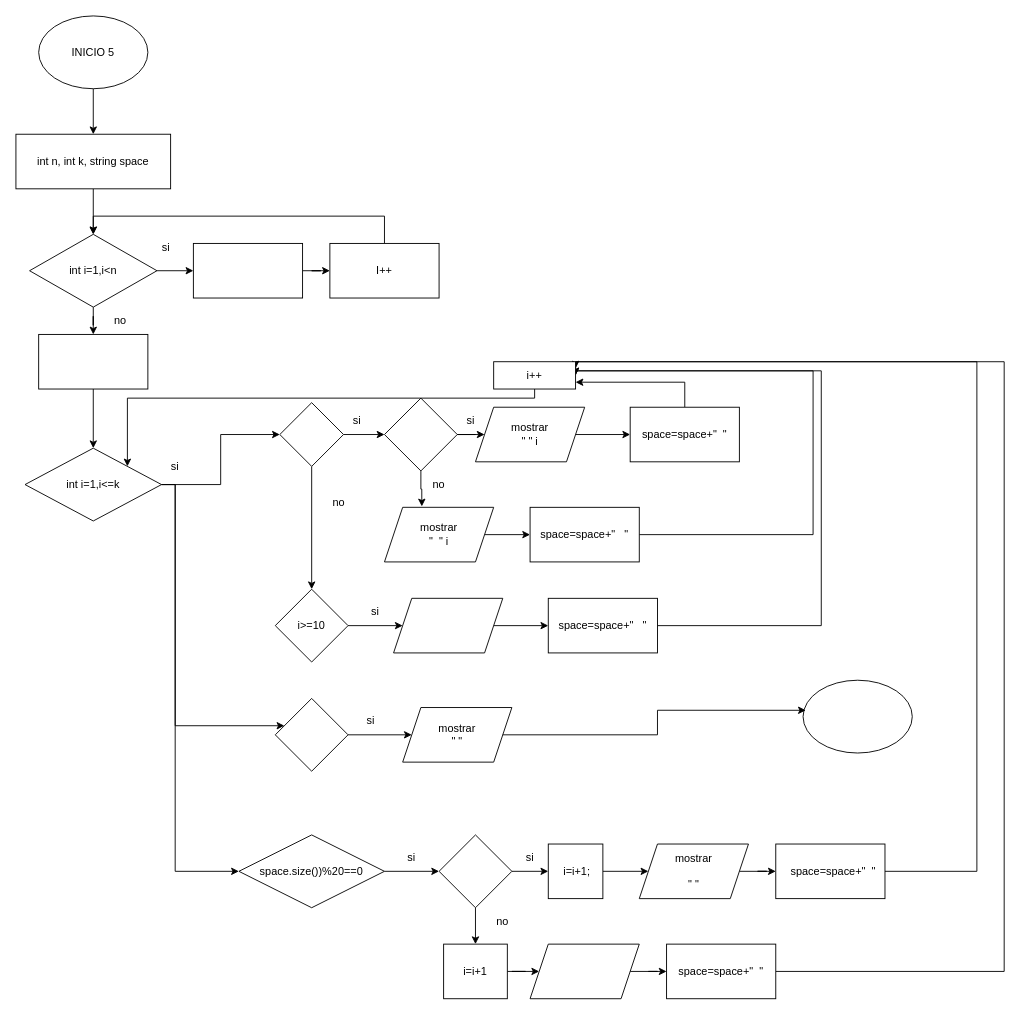
Image size: 1027x1015. Some labels were removed from this diagram. Each missing label, with the centre of its shape:
FIN: point 857,716
i+1<10: point 475,871
i<10: point 311,434
i==1: point 420,434
i==k: point 311,734
mostrar " " y i: point 448,625
mostrar i: point 584,971
mostrar space: point 93,361
space=" "+space: point 247,270
